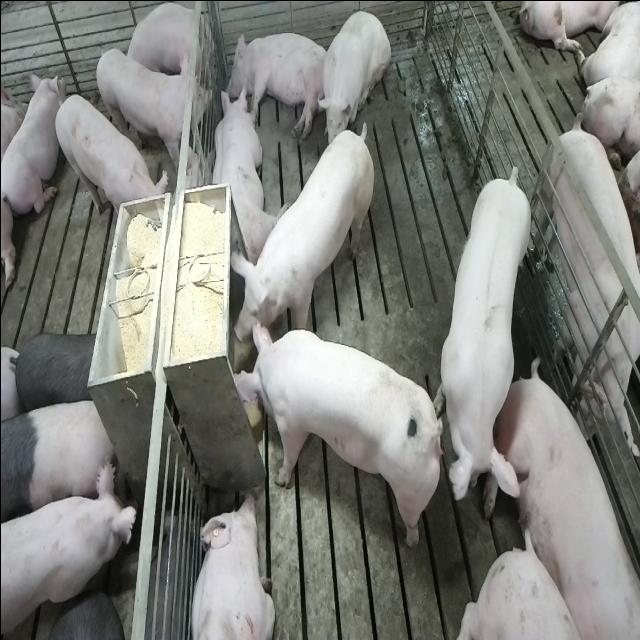Feeding: (232, 326, 443, 553), (231, 117, 379, 350)
Lateral_lying: (479, 354, 637, 636), (223, 28, 329, 140)
Sitting: (315, 8, 390, 154)
Standing: (536, 113, 640, 460), (436, 159, 534, 517), (1, 462, 140, 640), (52, 91, 166, 236), (2, 396, 122, 532)
Sternal_lying: (186, 490, 275, 640), (207, 84, 279, 268), (1, 72, 59, 222)
